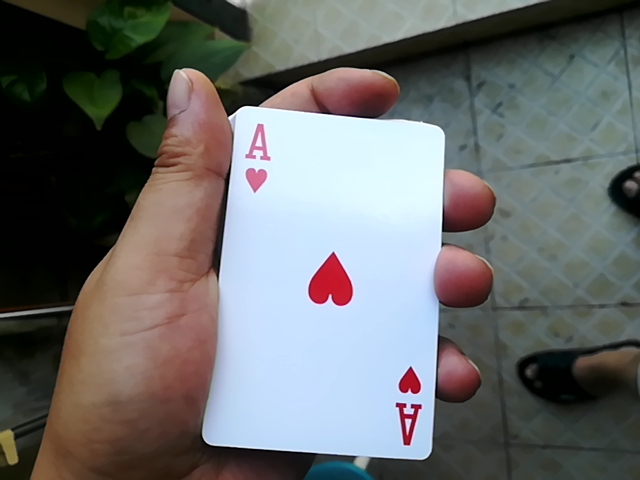hx a: (213, 98, 444, 463)
